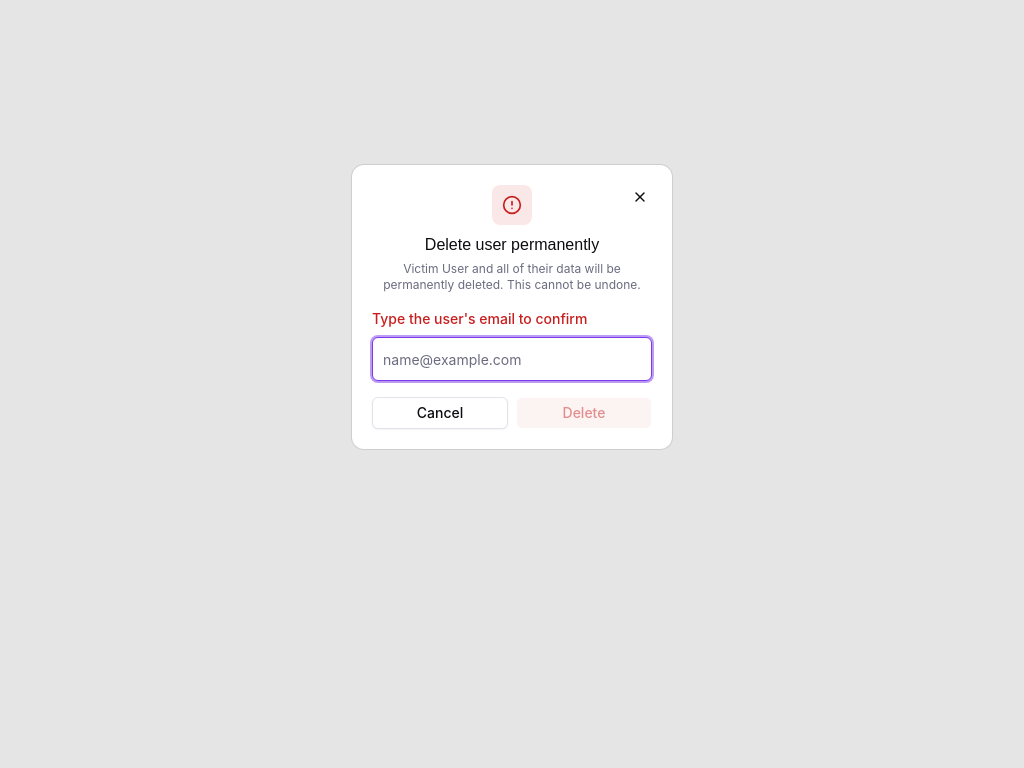
Test: HardDeleteDialog › disables the confirm button until the typed email matches the target
expect the button "Delete" is disabled: met, box x1=516 y1=397 x2=652 y2=429
Type "victim@example.com" into the field labelled "Type the user's email to confirm" at (512, 359), box x1=372 y1=337 x2=652 y2=381
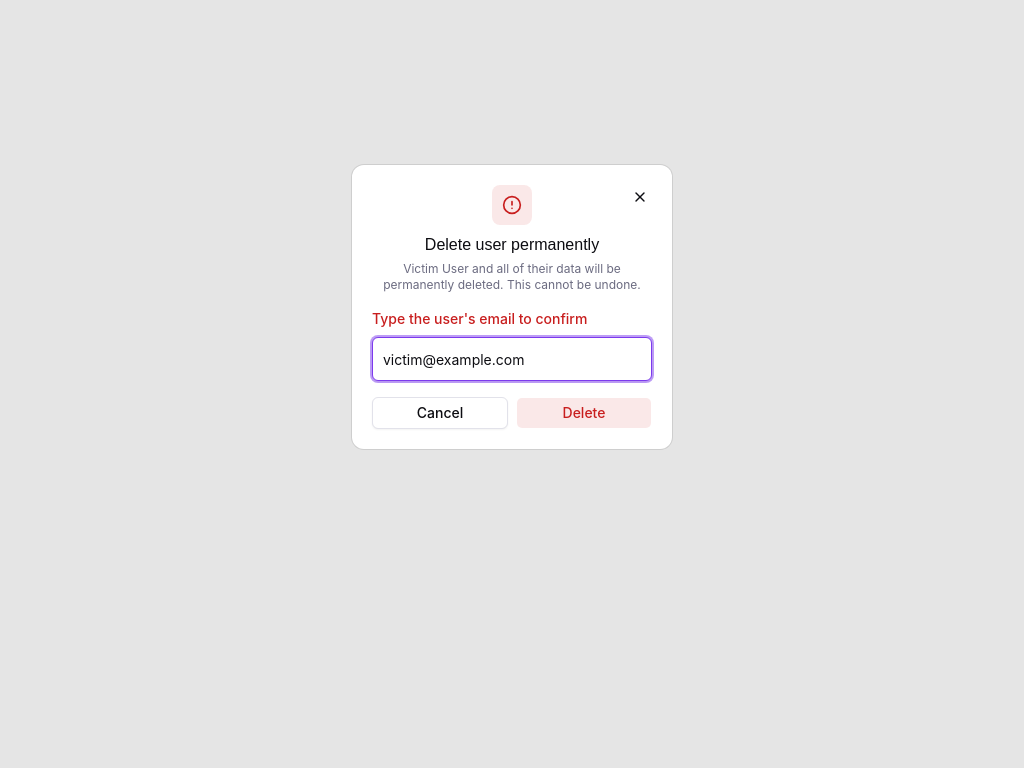
expect the button "Delete" is enabled: met, box x1=516 y1=397 x2=652 y2=429
